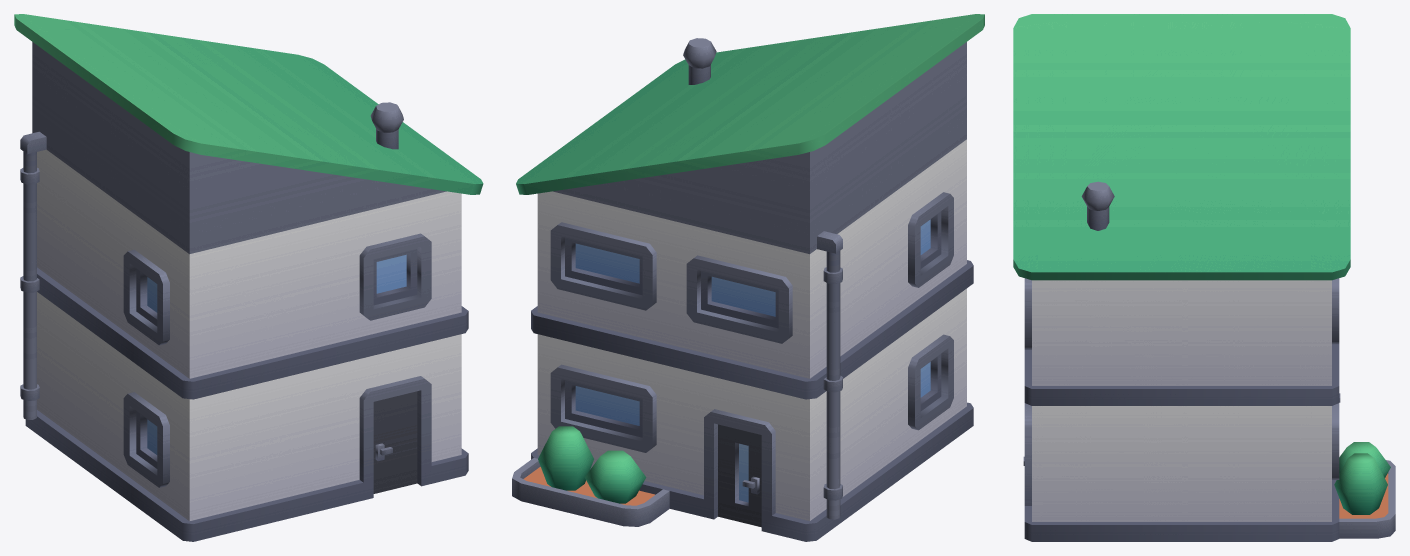
File: building-k.glb
3 views of the same model, side by side, from view 1: azimuth 30°, elevation 25°; view 2: azimuth 150°, elevation 25°; view 3: azimuth 270°, elevation 25° (orthographic). The views are drawn at different scales.
Parts seen in each view (by area): view 1: building-type-k; view 2: building-type-k; view 3: building-type-k.
Boxes of the visible parts, x1,y1,x2,y2 form: building-type-k: [14, 14, 483, 541]; building-type-k: [512, 14, 984, 541]; building-type-k: [1013, 14, 1395, 541].
Bounding box in the file's own units: 0.9209 × 1.15 × 1.02.
1 material, 1 textured.
